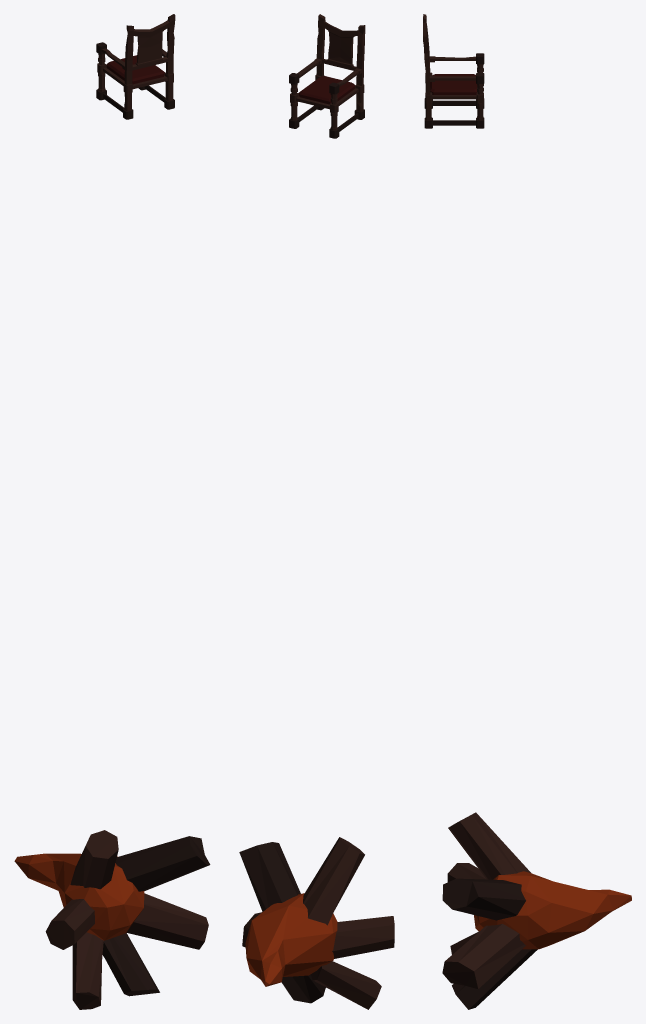
The model's file is Chair_Cube.obj.
The picture shows the model from 3 angles, left to right: view 1: azimuth 30°, elevation 25°; view 2: azimuth 150°, elevation 25°; view 3: azimuth 270°, elevation 25°; orthographic projection. The views are drawn at different scales.
Visible parts, largest first — view 1: Woodfire, Chair_Cube.027; view 2: Woodfire, Chair_Cube.027; view 3: Woodfire, Chair_Cube.027.
Part boxes in pixels (x1,y1,x2,y2): Woodfire: [14, 830, 210, 1009]; Chair_Cube.027: [96, 14, 175, 119]; Woodfire: [239, 837, 394, 1009]; Chair_Cube.027: [289, 14, 365, 138]; Woodfire: [442, 812, 631, 1009]; Chair_Cube.027: [423, 14, 484, 128].
Bounding box in the file's own units: 2.03 × 12.25 × 2.39.
